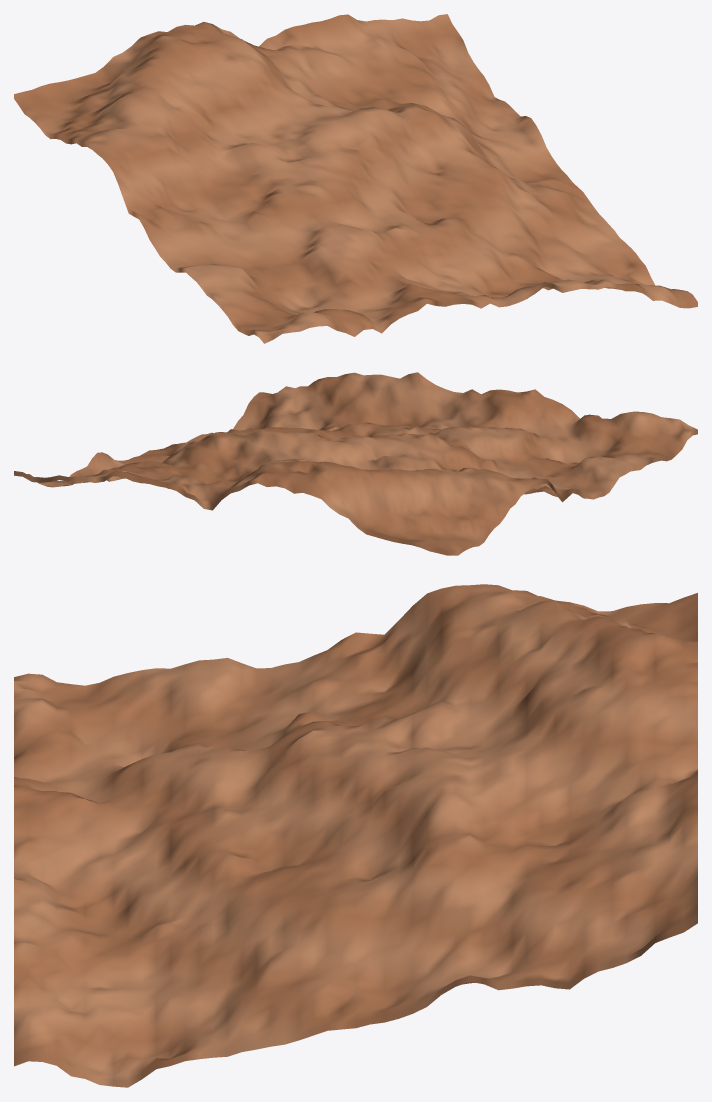
Rendered from terrain-061.glb.
3 renders of one model, top to bottom at view 1: azimuth 30°, elevation 25°; view 2: azimuth 150°, elevation 25°; view 3: azimuth 270°, elevation 25°, orthographic. The views are drawn at different scales.
Parts seen in each view (by area): view 1: terrain-061; view 2: terrain-061; view 3: terrain-061.
Boxes of the visible parts, x1=… form: terrain-061: x1=14, y1=14, x2=697, y2=343; terrain-061: x1=14, y1=372, x2=697, y2=555; terrain-061: x1=14, y1=584, x2=697, y2=1087.
Size of the model in its own units: 384 by 158 by 384.
